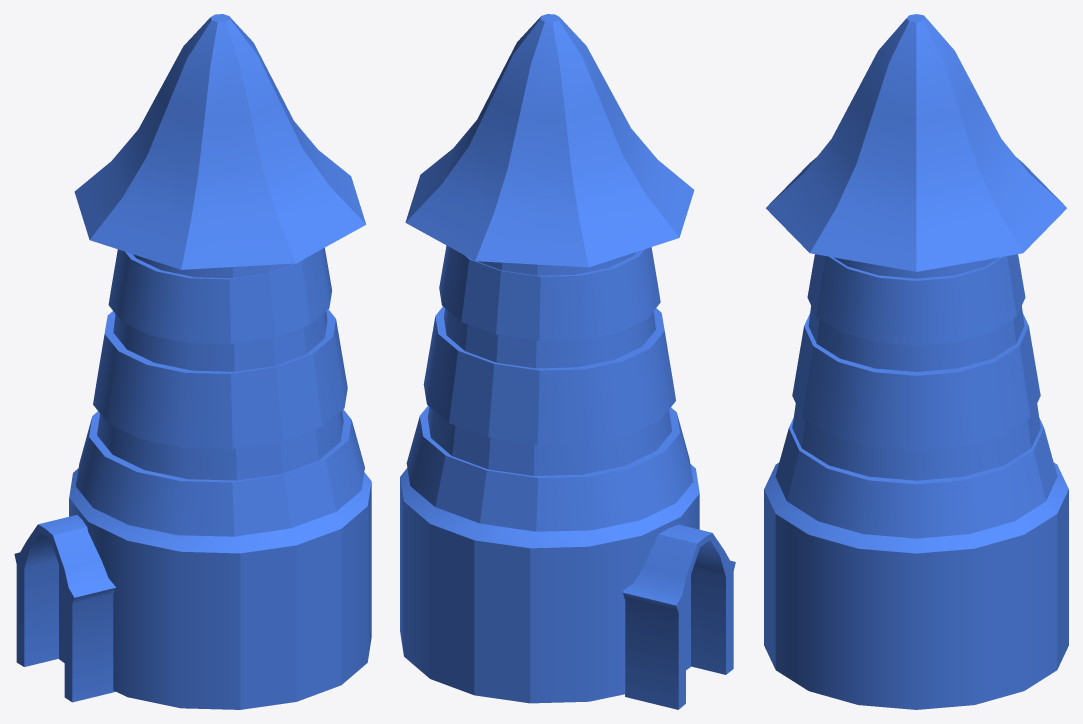
Rendered from Mill_Variant3.fbx.
3 views of the same model, side by side, from view 1: azimuth 30°, elevation 25°; view 2: azimuth 150°, elevation 25°; view 3: azimuth 270°, elevation 25° (orthographic).
Visible parts, largest first — view 1: Mill_Variant3; view 2: Mill_Variant3; view 3: Mill_Variant3.
Boxes of the visible parts, x1,y1,x2,y2 form: Mill_Variant3: (14, 14, 371, 709); Mill_Variant3: (400, 14, 735, 709); Mill_Variant3: (764, 14, 1068, 709).
Bounding box in the file's own units: 254 × 512 × 224.
